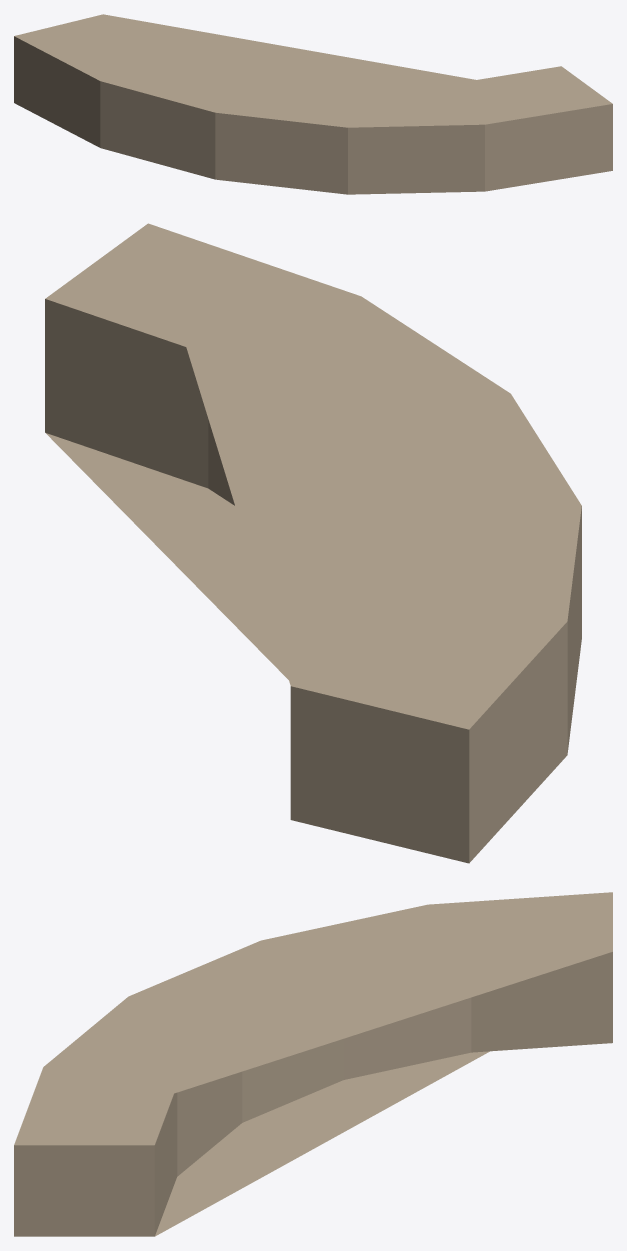
The model's file is CurbCorner.fbx.
3 views of the same model, one above another, from view 1: azimuth 30°, elevation 25°; view 2: azimuth 150°, elevation 25°; view 3: azimuth 270°, elevation 25° (orthographic). The views are drawn at different scales.
Visible parts, largest first — view 1: curb corner; view 2: curb corner; view 3: curb corner.
Boxes of the visible parts, <box> form: curb corner: <box>14,14,612,194</box>; curb corner: <box>45,223,581,863</box>; curb corner: <box>14,892,612,1236</box>.
Bounding box in the file's own units: 525 × 88.44 × 525.
